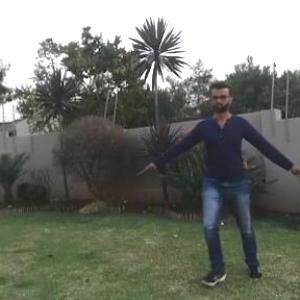land: (147, 86, 282, 252)
